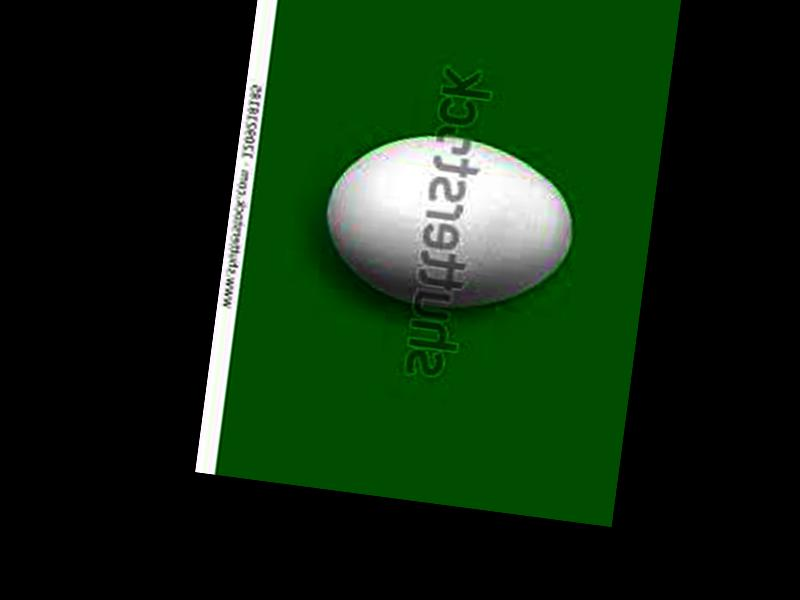Eggs: (318, 123, 583, 324)
